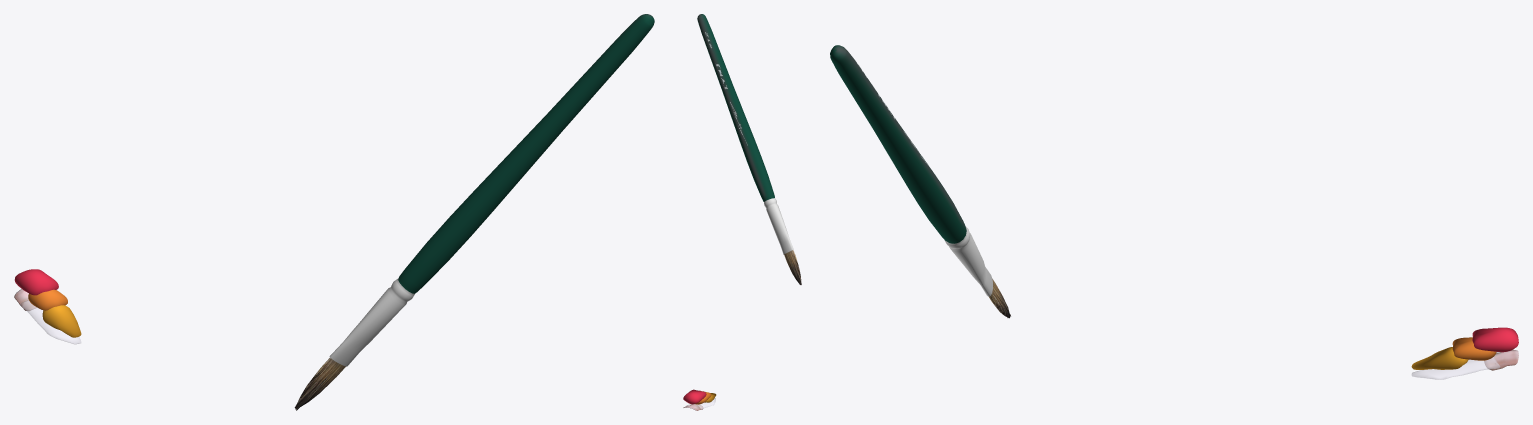
Rendered from Nail three colors _ 2.fbx.
3 renders of one model, left to right at view 1: azimuth 30°, elevation 25°; view 2: azimuth 150°, elevation 25°; view 3: azimuth 270°, elevation 25°, orthographic. The views are drawn at different scales.
Visible parts, largest first — view 1: Brush, Pink, Yellow, Acrylic nail.001, orenge; view 2: Brush, Pink; view 3: Brush, Pink, Acrylic nail.001, Yellow, orenge.
Part boxes in pixels (x1,y1,x2,y2): Brush: (294, 14, 654, 410); Pink: (14, 269, 58, 295); Yellow: (42, 305, 81, 337); Acrylic nail.001: (20, 300, 81, 344); orenge: (28, 289, 67, 310); Brush: (697, 14, 801, 284); Pink: (683, 389, 706, 404); Brush: (830, 45, 1010, 318); Pink: (1472, 327, 1518, 352); Acrylic nail.001: (1411, 352, 1499, 379); Yellow: (1411, 347, 1468, 369); orenge: (1452, 337, 1496, 360).
Size of the model in its own units: 937 by 1277 by 1656.
7 materials, 2 textured.
